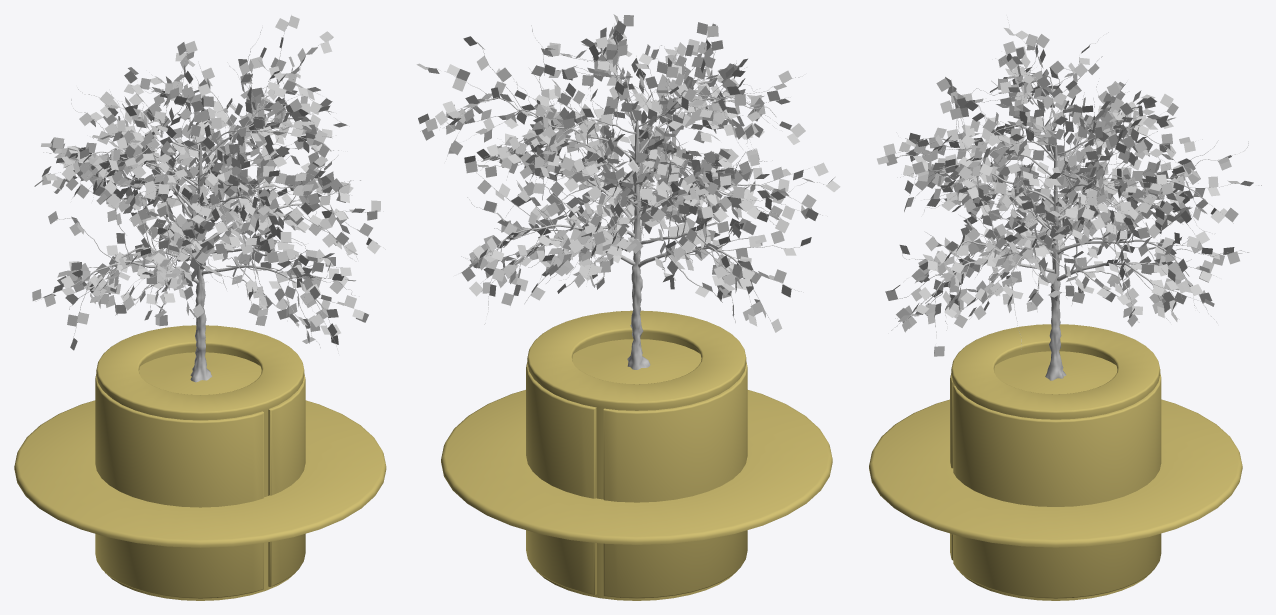
Rendered from Tree_bench.fbx.
The picture shows the model from 3 angles, left to right: view 1: azimuth 30°, elevation 25°; view 2: azimuth 150°, elevation 25°; view 3: azimuth 270°, elevation 25°; orthographic projection. The views are drawn at different scales.
Visible parts, largest first — view 1: Tree_bench, Tree; view 2: Tree_bench, Tree; view 3: Tree_bench, Tree.
Boxes of the visible parts, x1,y1,x2,y2 form: Tree_bench: (14,325,386,600); Tree: (32,15,385,382); Tree_bench: (441,310,832,600); Tree: (416,14,840,369); Tree_bench: (869,324,1242,600); Tree: (877,20,1261,380).
Bounding box in the file's own units: 227 × 326 × 231.
